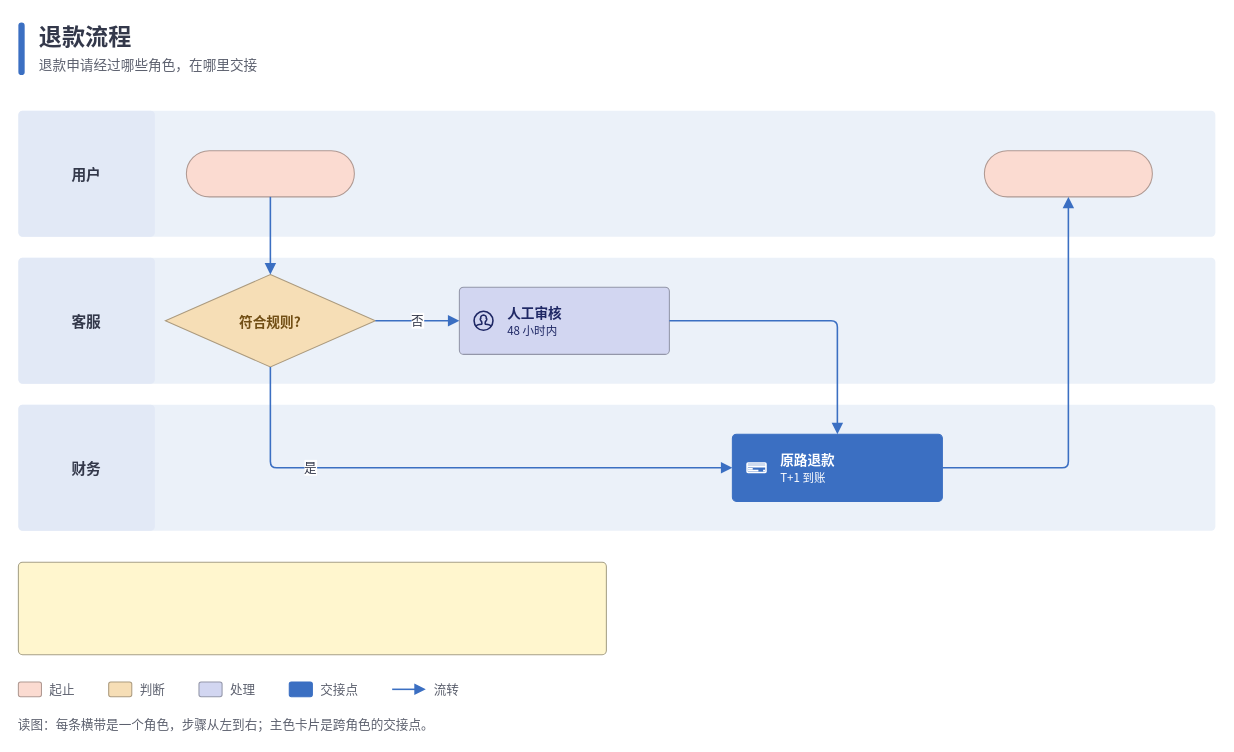
Some shapes in this 1234 by 752 pixel diagram are drawn without their labels. Each missing label, with the centre of its shape:
"依据 R12 退款规则：7 天内且未发货自动通过 人工审核超过 48 小时自动升级给主管" belongs at pixel 311 608.
"提交退款" belongs at pixel 269 173.
"收到退款" belongs at pixel 1067 173.
